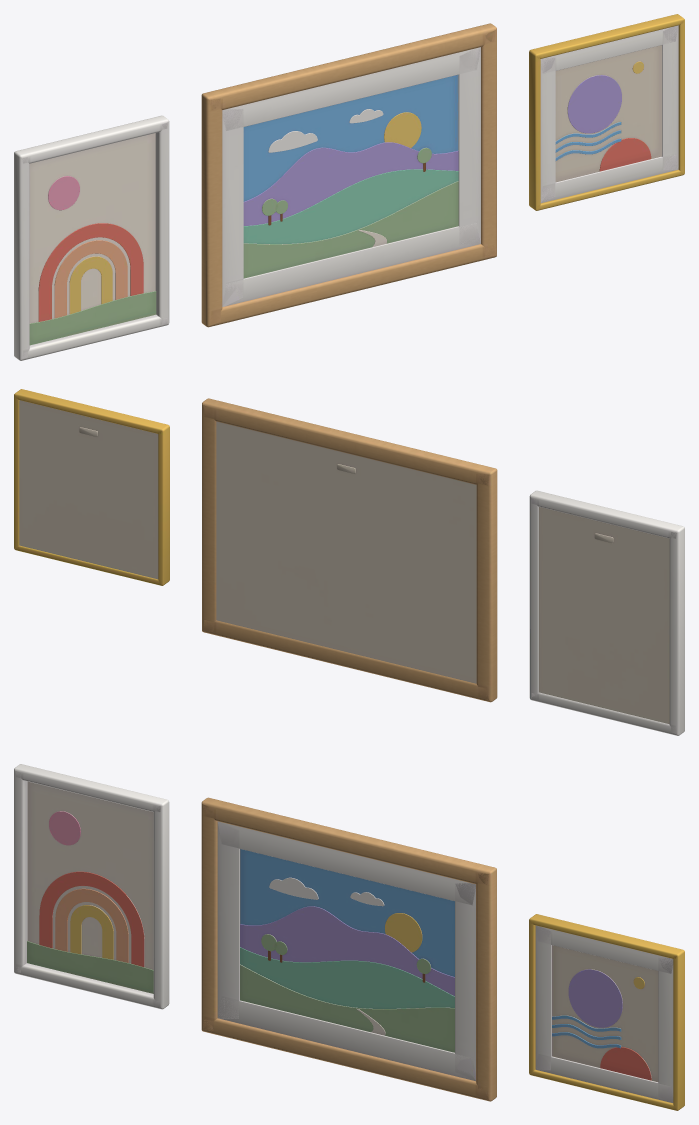
The model's file is wall-art.glb.
The picture shows the model from 3 angles, top to bottom: view 1: azimuth 30°, elevation 25°; view 2: azimuth 150°, elevation 25°; view 3: azimuth 330°, elevation 25°; orthographic projection.
Parts seen in each view (by area): view 1: wall-art_body; view 2: wall-art_body; view 3: wall-art_body.
Part boxes in pixels (x1=…): wall-art_body: x1=14, y1=14, x2=684, y2=360; wall-art_body: x1=14, y1=389, x2=684, y2=735; wall-art_body: x1=14, y1=764, x2=684, y2=1110.
Bounding box in the file's own units: 1.42 × 0.47 × 0.026.
1 material, 1 textured.
